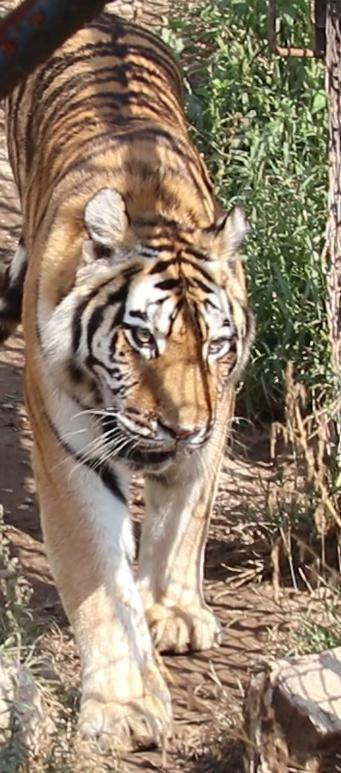tiger: (0, 0, 254, 749)
